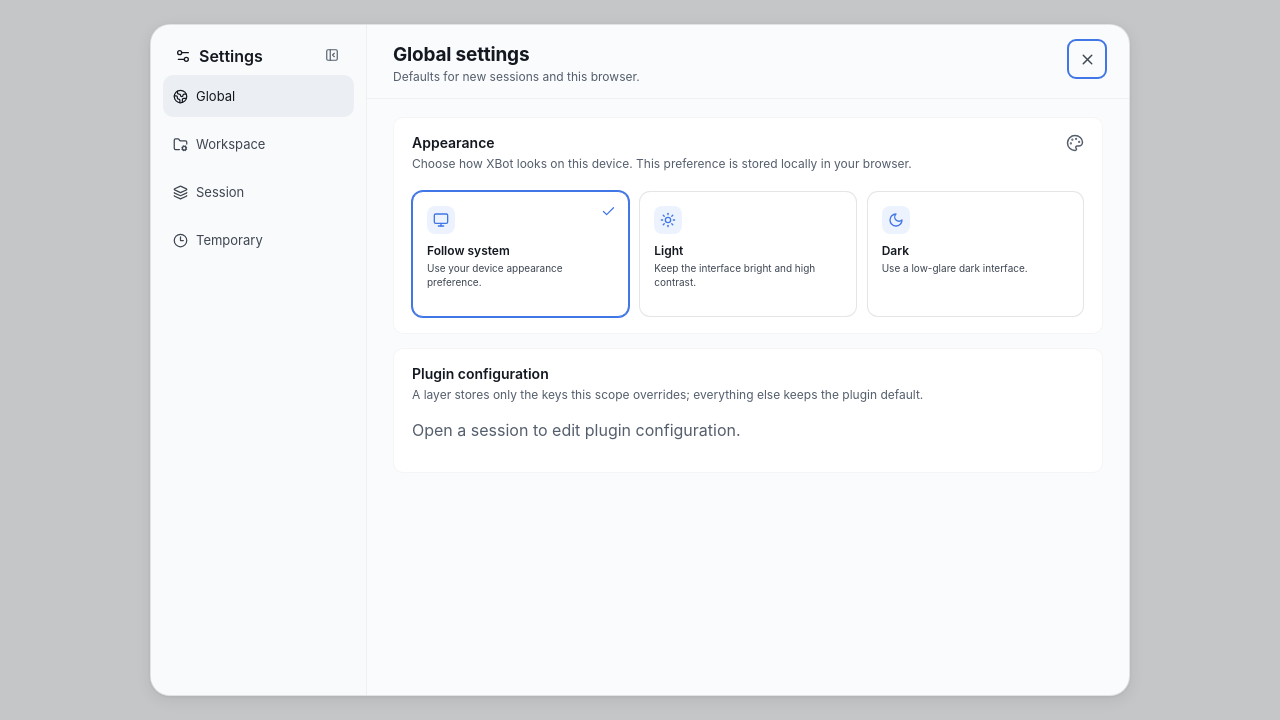
Test: SettingsDialog › switches between global, session, and temporary scopes
The width and height of the screenshot is (1280, 720).
Expected: the heading "Global settings" is shown, [393, 43, 529, 66]
Click the button "Workspace".
click(258, 144)  # box [163, 123, 354, 165]
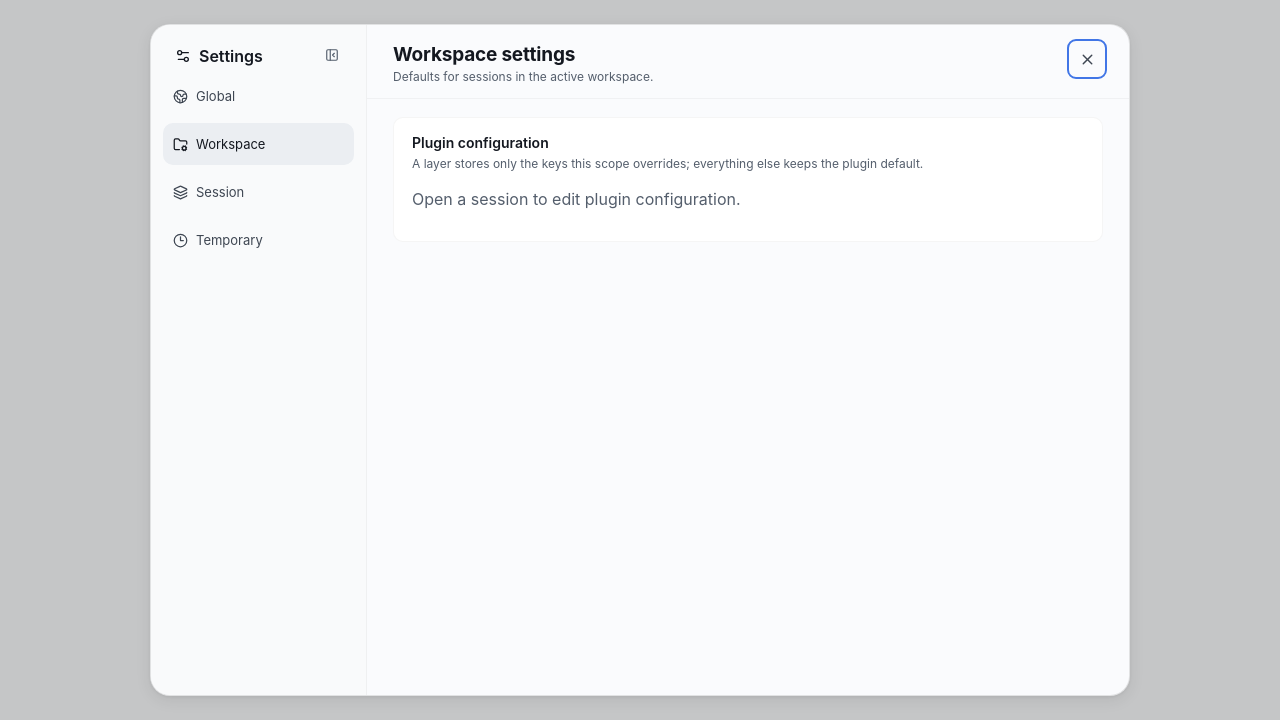
Result: the heading "Workspace settings" is shown at [393, 43, 575, 66]
Click the button "Session".
click(258, 192)  # box [163, 171, 354, 213]
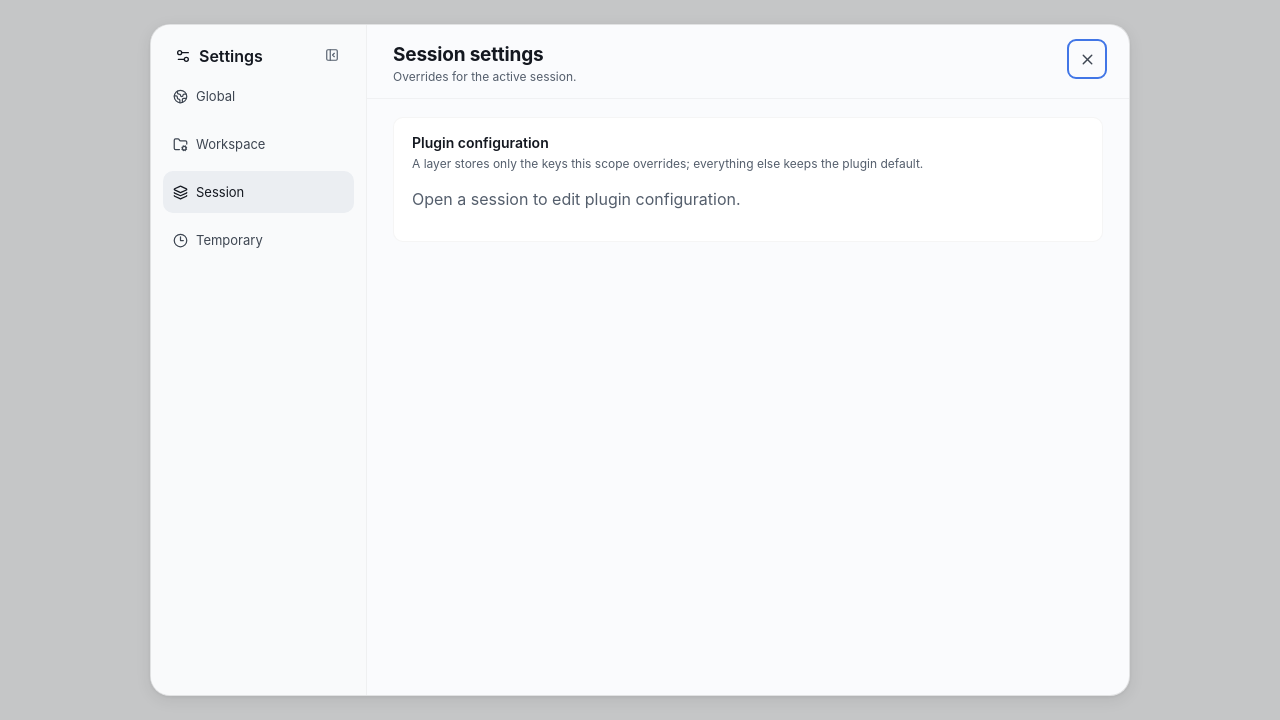
Expected: the text "Open a session to edit plugin configuration." is shown, [412, 189, 741, 209]
Result: the heading "Session settings" is shown at [393, 43, 543, 66]
Click the button "Temporary".
click(258, 240)  # box [163, 219, 354, 261]
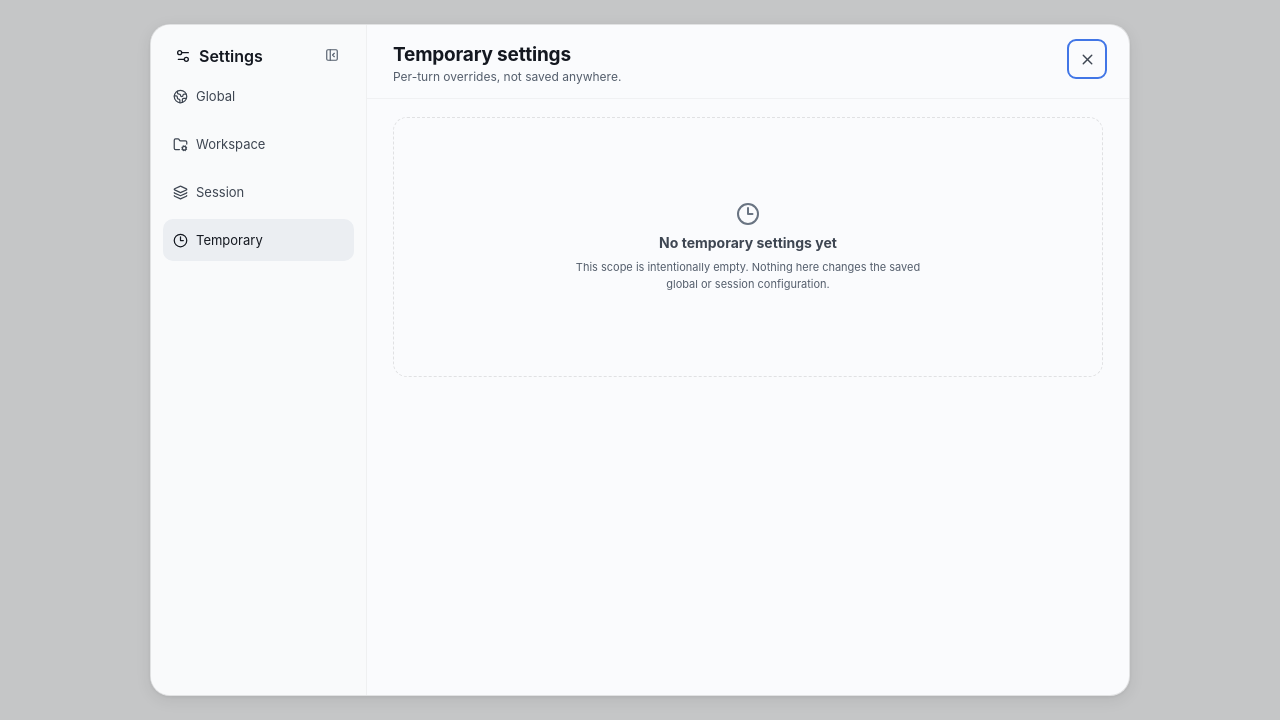
Result: the heading "Temporary settings" is shown at [393, 43, 571, 66]
Result: the text "No temporary settings yet" is shown at [659, 234, 837, 251]
